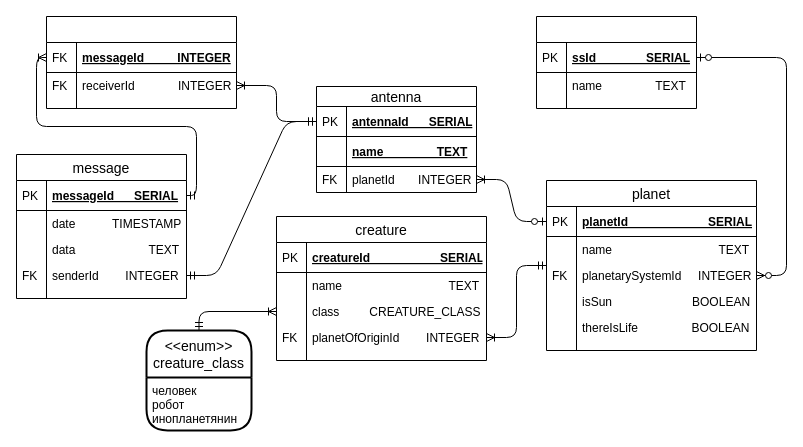
Some shapes in this 803 by 447 pixel diagram are drawn without their labels. Here are the shapes that lost their labels. From the top down, the box of each, then its label:
(46, 16, 236, 108): transmission
(536, 16, 696, 108): planetary_system
